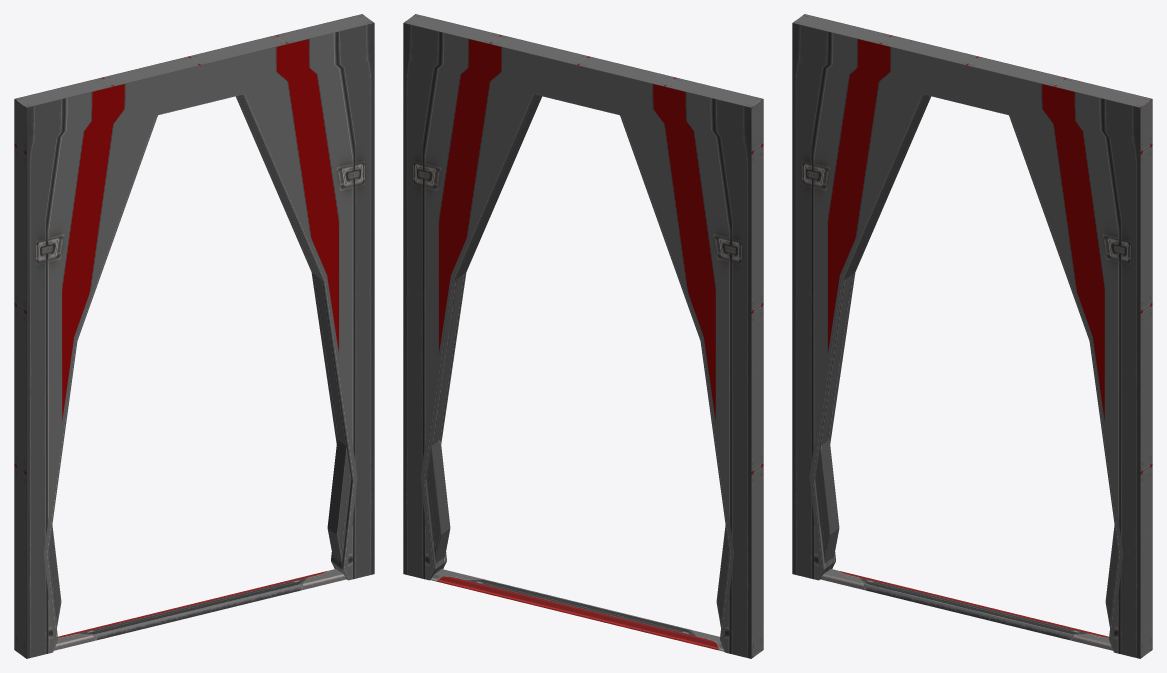
File: frame.glb
3 views of the same model, side by side, from view 1: azimuth 30°, elevation 25°; view 2: azimuth 150°, elevation 25°; view 3: azimuth 330°, elevation 25° (orthographic).
Visible parts, largest first — view 1: Door_Frame_A; view 2: Door_Frame_A; view 3: Door_Frame_A.
Boxes of the visible parts, <box> form: Door_Frame_A: <box>14,14,374,658</box>; Door_Frame_A: <box>403,14,763,658</box>; Door_Frame_A: <box>792,14,1152,658</box>.
Bounding box in the file's own units: 1.78 × 2.69 × 0.1089.
2 materials, 2 textured.
